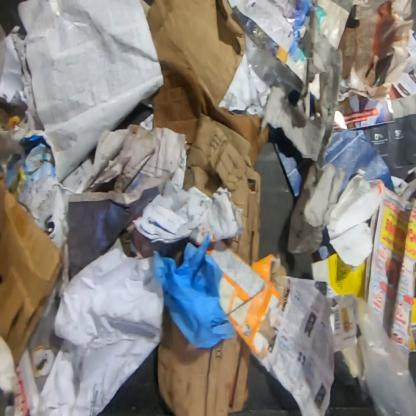cardboard: (142, 1, 269, 160), (0, 172, 65, 370), (186, 113, 262, 267), (157, 303, 251, 416), (206, 241, 289, 359), (311, 254, 367, 302), (410, 296, 415, 353)
soft_plastic: (358, 299, 415, 415)
